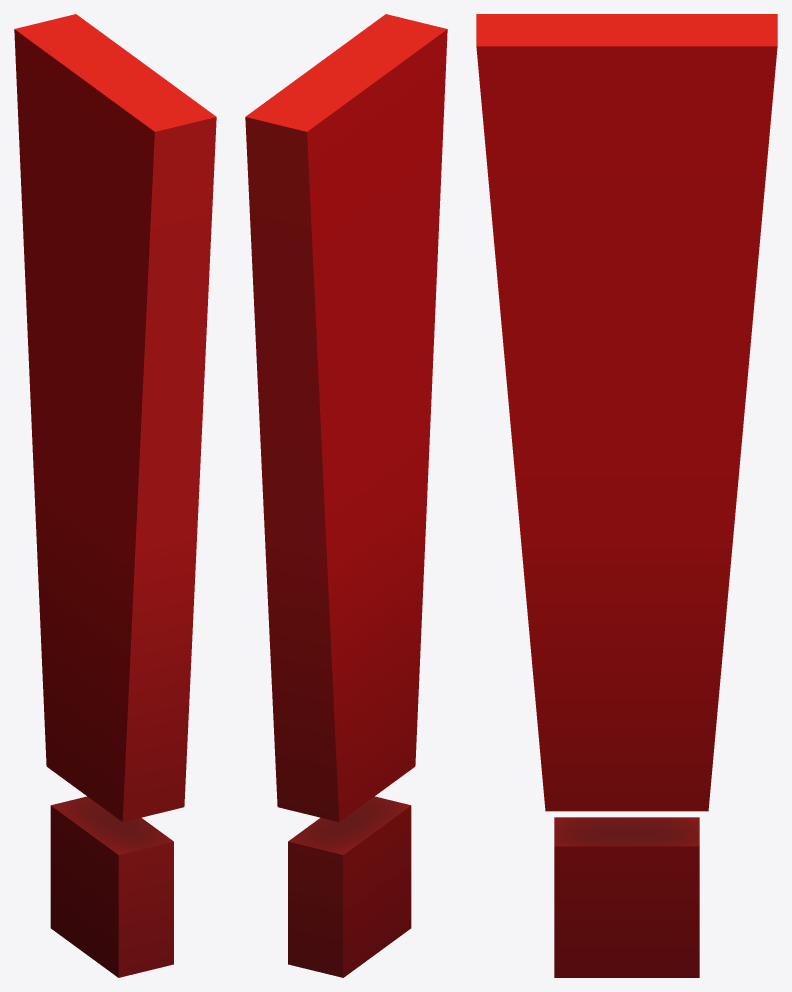
Rendered from Exclaimation.glb.
3 renders of one model, left to right at view 1: azimuth 30°, elevation 25°; view 2: azimuth 150°, elevation 25°; view 3: azimuth 270°, elevation 25°, orthographic. The views are drawn at different scales.
Parts seen in each view (by area): view 1: pPlane3; view 2: pPlane3; view 3: pPlane3.
Part boxes in pixels (box(x1,y1,x2,y2)): pPlane3: box(14, 14, 216, 977); pPlane3: box(245, 14, 447, 977); pPlane3: box(476, 14, 777, 977).
Bounding box in the file's own units: 0.0501 × 0.6756 × 0.1972.
Materials: 1 (1 with a texture image).
